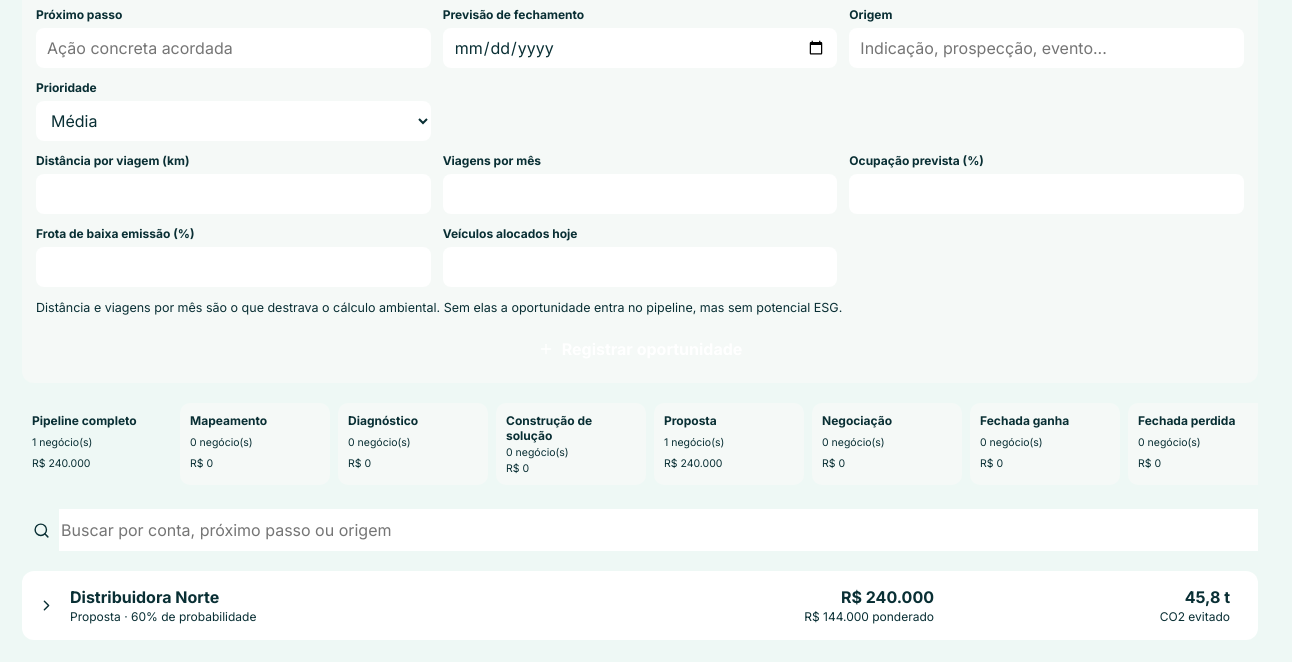
Scenario: página de oportunidades › reconhece a simulação vinculada e avança para o piloto
(page scrolled)
Click the button "Distribuidora Norte" at (145, 597), box left=22, top=571, right=1258, bottom=640
(page scrolled)
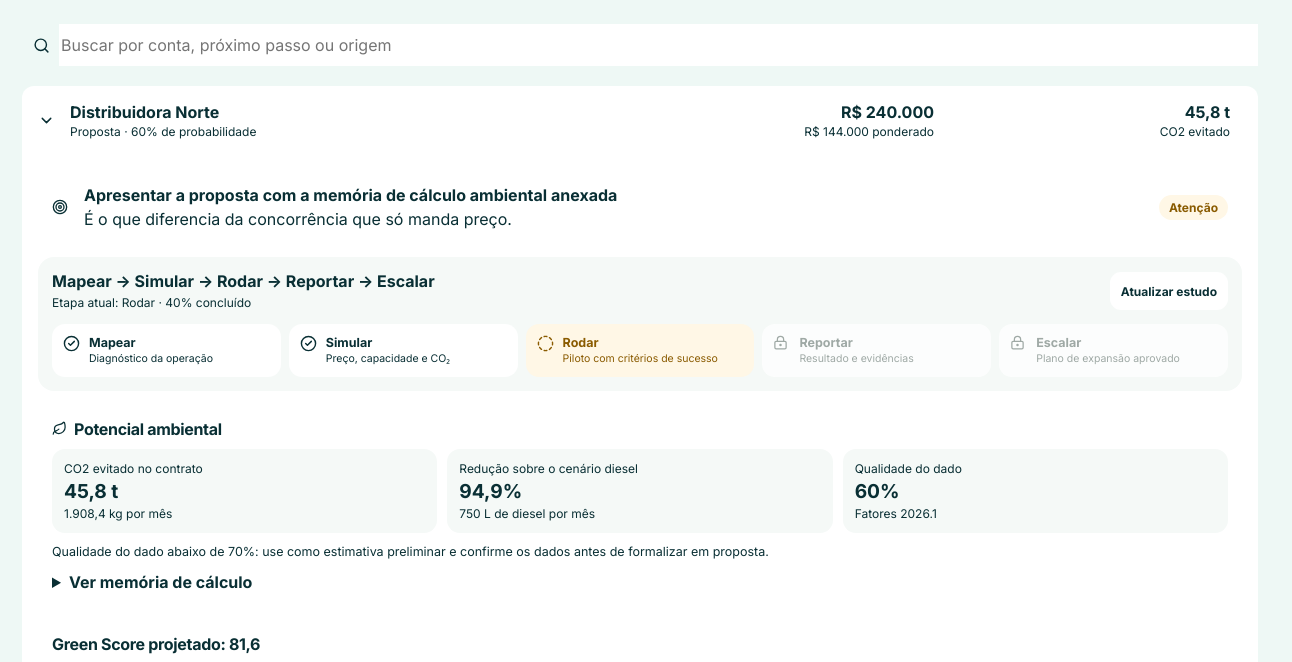
Expected: the text "Etapa atual: Rodar · 40% concluído" is shown, left=52, top=295, right=251, bottom=310
